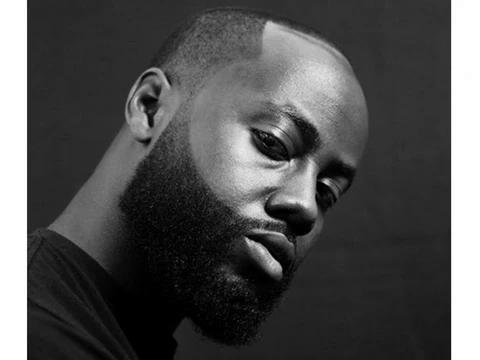bar: (119, 108, 299, 347)
